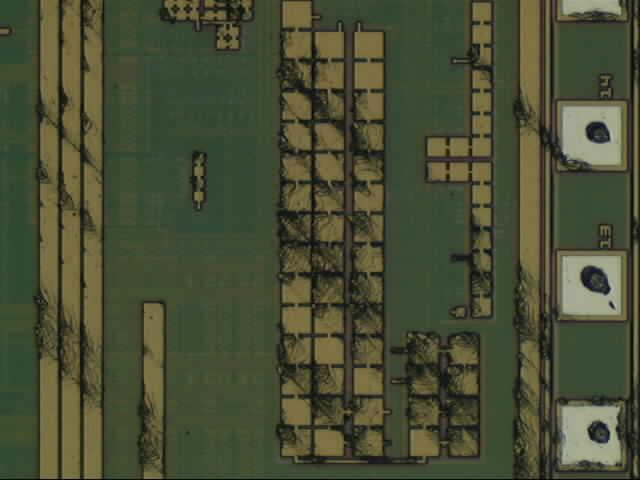SCRATCH: (24, 1, 640, 480)
